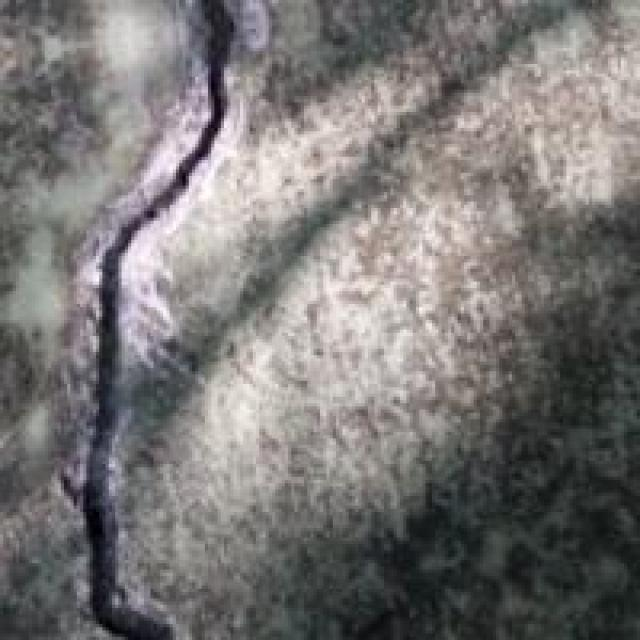crack: (42, 0, 291, 637)
